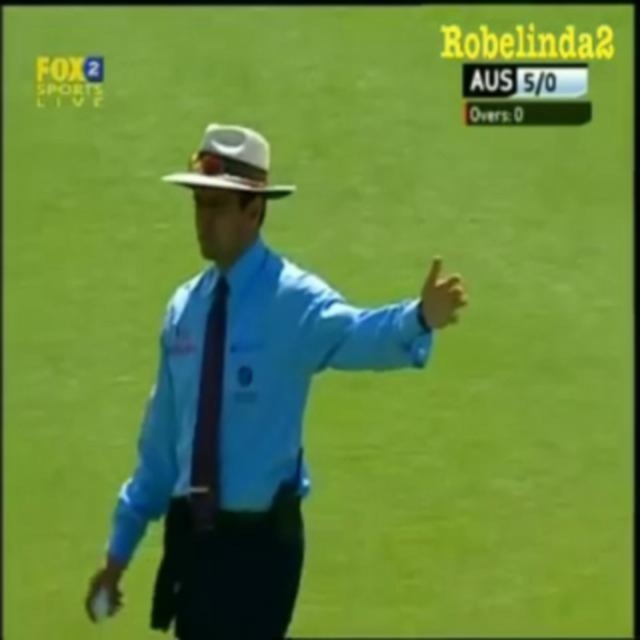No_Ball: (80, 112, 475, 640)
